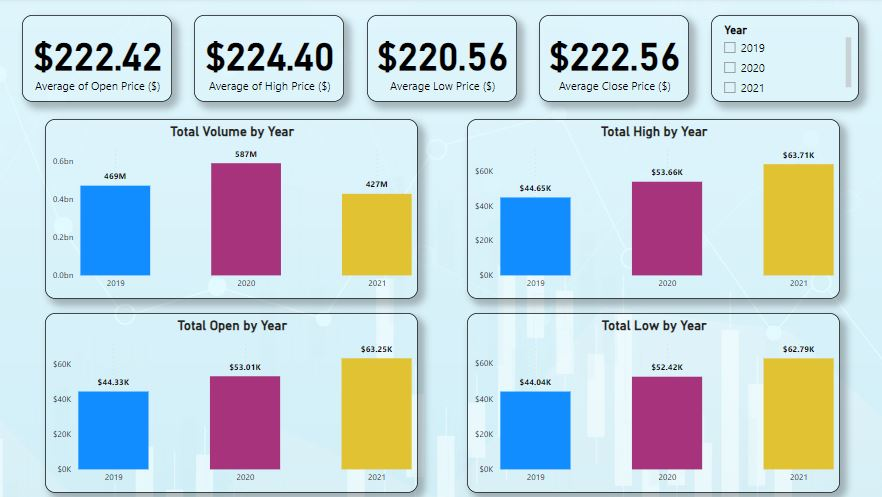

This screenshot's page, from the dashboard's own definition file:
{"tool":"powerbi","page":{"name":"Page 1","canvas":[1280,720],"ordinal":0},"visuals":[{"type":"clusteredColumnChart","title":"Total Volume by Year","fields":{"Category":["Accenture_stock_history.Date.Variation.Date Hierarchy.Year","Accenture_stock_history.Date.Variation.Date Hierarchy.Quarter","Accenture_stock_history.Date.Variation.Date Hierarchy.Month","Accenture_stock_history.Date.Variation.Date Hierarchy.Day"],"Y":["Sum(Accenture_stock_history.Volume)"]},"box":[69.1,174.2,537.1,259.2],"z":0},{"type":"clusteredColumnChart","title":"Total High by Year","fields":{"Category":["Accenture_stock_history.Date.Variation.Date Hierarchy.Year","Accenture_stock_history.Date.Variation.Date Hierarchy.Quarter","Accenture_stock_history.Date.Variation.Date Hierarchy.Month","Accenture_stock_history.Date.Variation.Date Hierarchy.Day"],"Y":["Sum(Accenture_stock_history.High)"]},"box":[676.8,174.2,537.1,259.2],"z":1000},{"type":"clusteredColumnChart","title":"Total Open by Year","fields":{"Category":["Accenture_stock_history.Date.Variation.Date Hierarchy.Year","Accenture_stock_history.Date.Variation.Date Hierarchy.Quarter","Accenture_stock_history.Date.Variation.Date Hierarchy.Month","Accenture_stock_history.Date.Variation.Date Hierarchy.Day"],"Y":["Sum(Accenture_stock_history.Open)"]},"box":[69.1,453.6,537.1,259.2],"z":2000},{"type":"clusteredColumnChart","title":"Total Low by Year","fields":{"Category":["Accenture_stock_history.Date.Variation.Date Hierarchy.Year","Accenture_stock_history.Date.Variation.Date Hierarchy.Quarter","Accenture_stock_history.Date.Variation.Date Hierarchy.Month","Accenture_stock_history.Date.Variation.Date Hierarchy.Day"],"Y":["Sum(Accenture_stock_history.Low)"]},"box":[676.8,453.6,537.1,259.2],"z":3000},{"type":"card","fields":{"Values":["Avg(Accenture_stock_history.Open)"]},"box":[36,24,216,125.3],"z":4000},{"type":"card","fields":{"Values":["Avg(Accenture_stock_history.High)"]},"box":[283.7,24,216,125.3],"z":5000},{"type":"card","fields":{"Values":["Avg(Accenture_stock_history.Low)"]},"box":[532.8,24,216,125.3],"z":6000},{"type":"card","fields":{"Values":["Avg(Accenture_stock_history.Close)"]},"box":[780.5,24,216,125.3],"z":7000},{"type":"slicer","fields":{"Values":["Accenture_stock_history.Date.Variation.Date Hierarchy.Year"]},"box":[1028.2,24,213.1,125.3],"z":8000}]}

Visuals, with their boxes in screenshot pixels (x1, y1, x2, y2), scaled from the page's 1280x720 canvas onto the 882x497 screenshot:
"Total Volume by Year" clusteredColumnChart: <region>48, 120, 418, 299</region>
"Total High by Year" clusteredColumnChart: <region>466, 120, 836, 299</region>
"Total Open by Year" clusteredColumnChart: <region>48, 313, 418, 492</region>
"Total Low by Year" clusteredColumnChart: <region>466, 313, 836, 492</region>
card - Avg(Accenture_stock_history.Open): <region>25, 17, 174, 103</region>
card - Avg(Accenture_stock_history.High): <region>195, 17, 344, 103</region>
card - Avg(Accenture_stock_history.Low): <region>367, 17, 516, 103</region>
card - Avg(Accenture_stock_history.Close): <region>538, 17, 687, 103</region>
slicer - Accenture_stock_history.Date.Variation.Date Hierarchy.Year: <region>708, 17, 855, 103</region>
